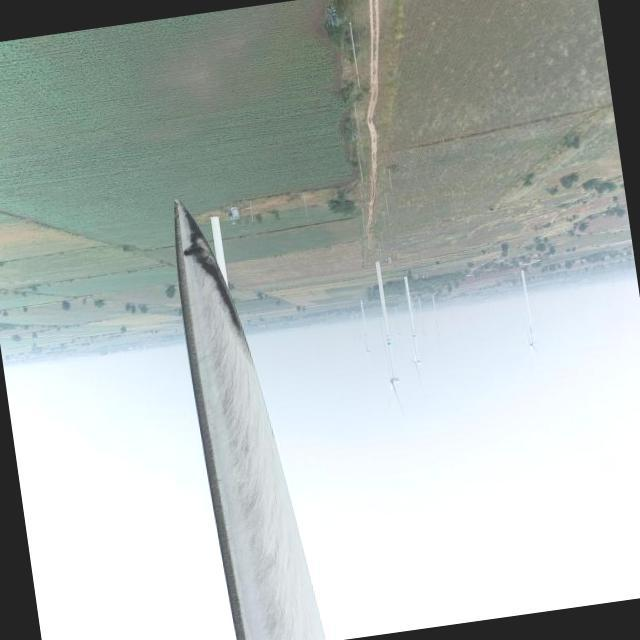Dirt: (175, 204, 301, 639)
Oil LEAKAGE: (177, 195, 243, 334)
Pin Hole: (182, 248, 192, 256)
